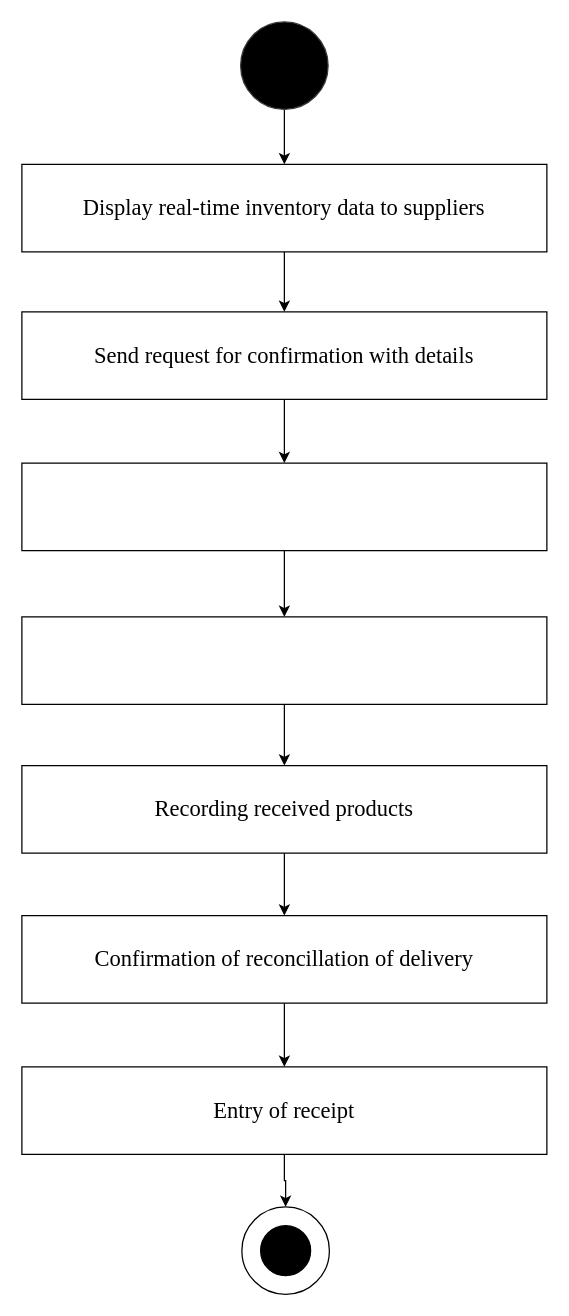
The diagram is 569 pixels wide and 1316 high, and some of its shapes have lost their labels. The shapes that lost their labels are listed below. From the top down, each one's centre as x and y in pixels, then its label:
the point at 284,506: Automatic checking details with required products
the point at 284,660: Order confirmation by admin
